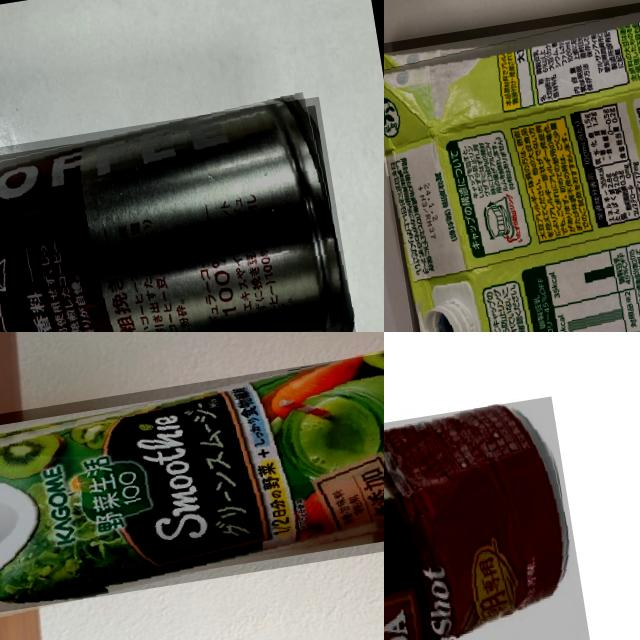Aluminium Foil: (0, 339, 384, 625), (384, 0, 640, 332), (384, 396, 590, 640)
Can: (0, 97, 360, 332)
